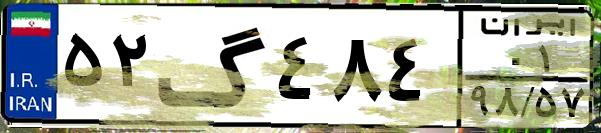0: (508, 27, 537, 80)
1: (537, 27, 568, 80)
2: (110, 28, 156, 98)
4: (270, 28, 330, 110), (385, 28, 445, 110)
5: (57, 26, 110, 100), (535, 70, 560, 125)
7: (560, 70, 590, 125)
8: (330, 28, 385, 110), (495, 70, 520, 125)
9: (470, 70, 495, 125)
گ: (156, 12, 270, 120)
